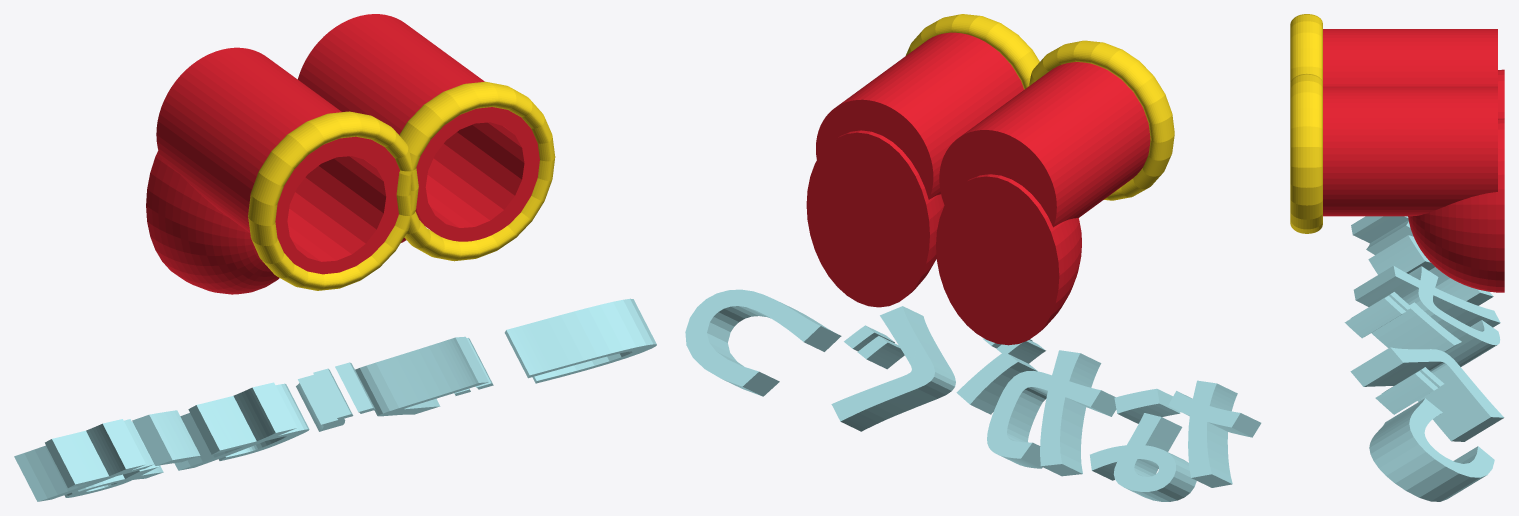
The model's file is tinker.obj.
3 views of the same model, side by side, from view 1: azimuth 30°, elevation 25°; view 2: azimuth 150°, elevation 25°; view 3: azimuth 270°, elevation 25° (orthographic). The views are drawn at different scales.
Visible parts, largest first — view 1: group_0_15277357, group_0_11593967, group_0_16768282; view 2: group_0_15277357, group_0_11593967, group_0_16768282; view 3: group_0_15277357, group_0_11593967, group_0_16768282.
Part boxes in pixels (<box>): group_0_15277357: <box>146,14,539,294</box>; group_0_11593967: <box>14,298,656,501</box>; group_0_16768282: <box>248,81,555,290</box>; group_0_15277357: <box>806,32,1150,345</box>; group_0_11593967: <box>685,289,1261,501</box>; group_0_16768282: <box>905,14,1174,200</box>; group_0_15277357: <box>1323,29,1504,292</box>; group_0_11593967: <box>1344,216,1504,501</box>; group_0_16768282: <box>1290,14,1322,233</box>.
Size of the model in its own units: 91.06 by 59.3 by 33.
